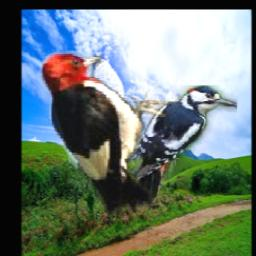Woodpecker: (38, 51, 167, 217), (129, 85, 237, 205)
